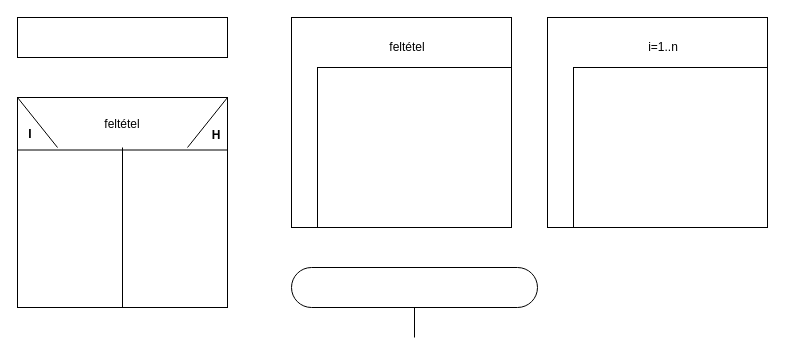
Image size: 785x356. Some labels were removed from this diagram. Each missing label, with the centre of its shape:
"Fv (paraméter: típus...):visszatérésTíp." belongs at (414,287).
"szekvencia utasítás" belongs at (122,37).
